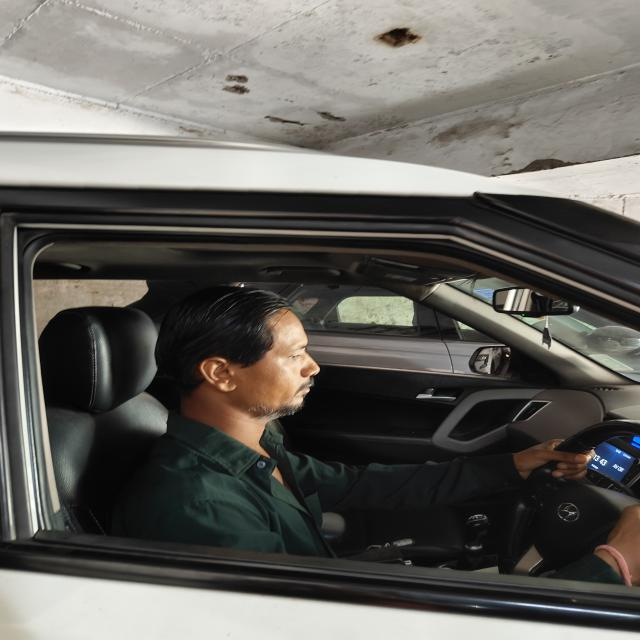no-seatbelt: (87, 400, 355, 574)
